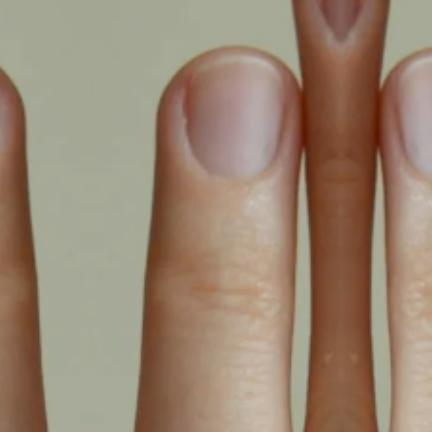Nail: (184, 51, 283, 179), (398, 53, 432, 177)
